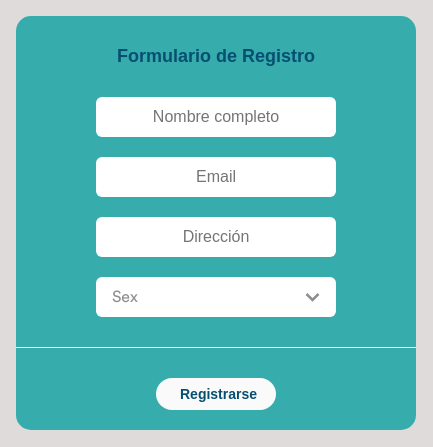
it: Register Form › It opens the dropdown menu when you click it
Click the button with test id "sexDropdown": (216, 297) [96,277,336,317]
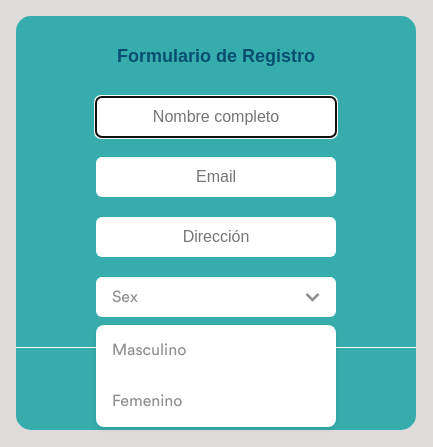
Check: the element with test id "dropdownMenu" is shown, box [96,325,336,427]
